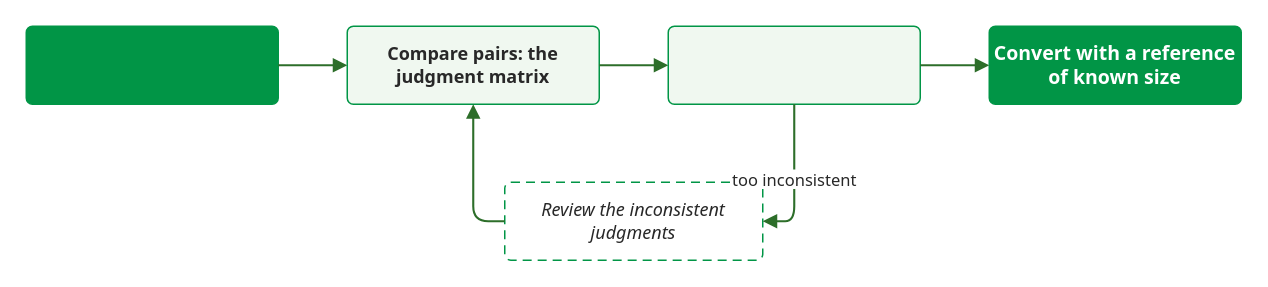
This 1268x287 diagram has some shape labels left out. Each missing label, with the box of its shape:
Rank the items, largest first: (25, 25, 278, 104)
Ratio scale and inconsistency index: (667, 25, 920, 104)
